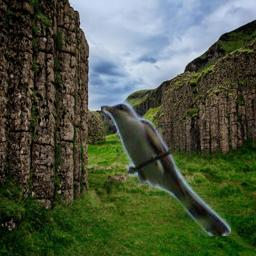Cuckoo: (101, 100, 231, 236)
